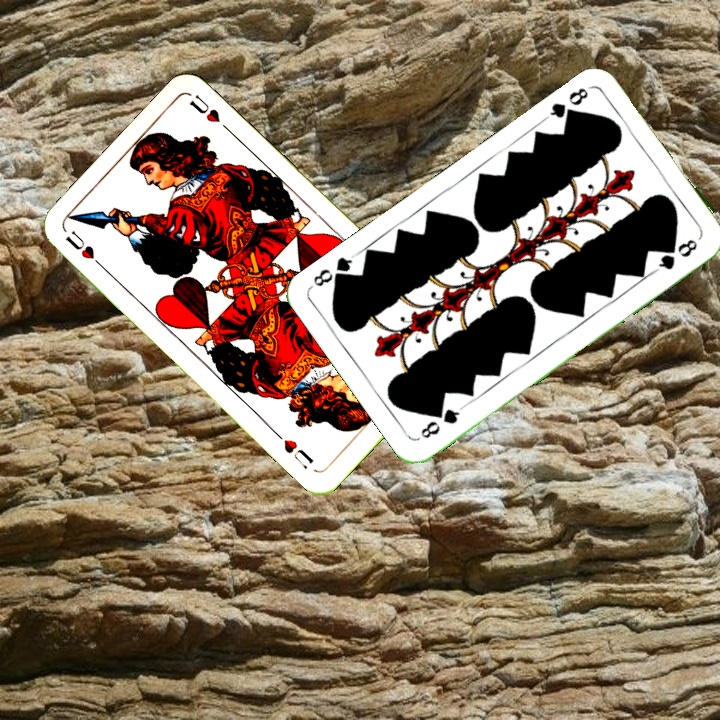G8: (542, 83, 592, 125), (416, 402, 466, 441)
HU: (60, 226, 108, 273)
